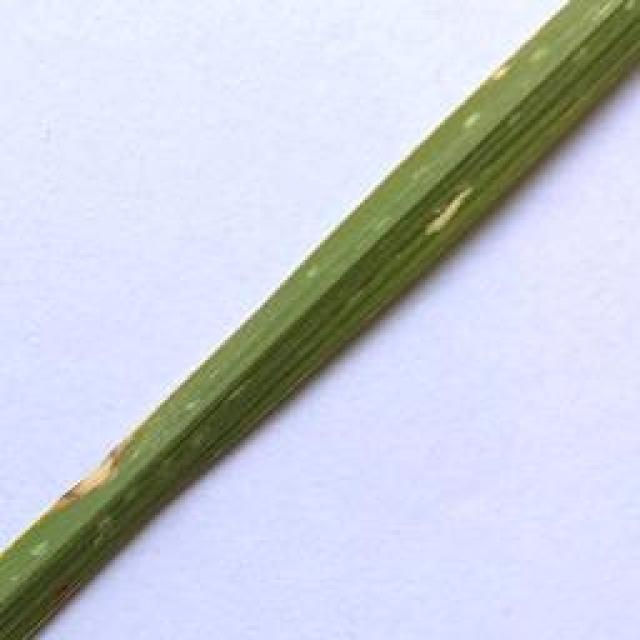Unhealthy: (40, 428, 139, 521), (426, 187, 474, 235), (494, 62, 516, 80), (465, 112, 481, 128)
